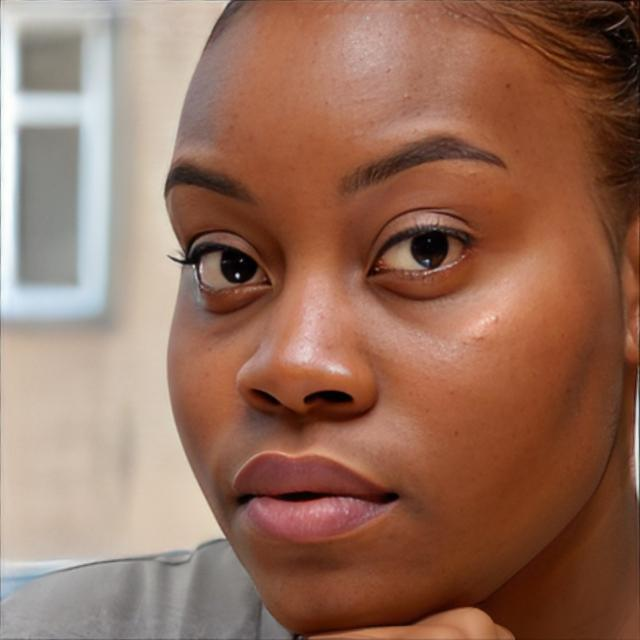neutral: (160, 0, 622, 637)
